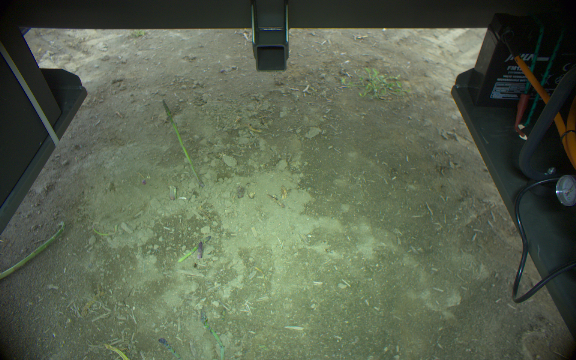aspa: (161, 100, 202, 187)
